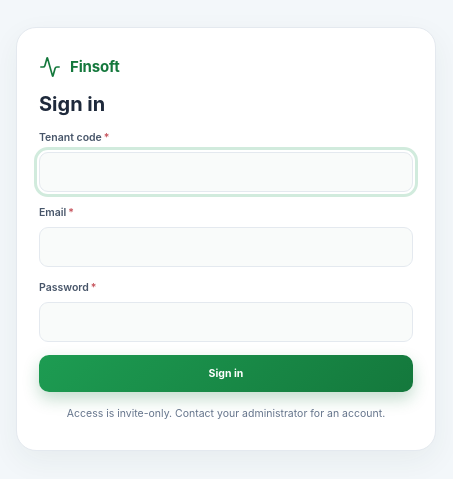
LoginScreen › maps a 400 validation_failed detail to the matching field, not a form banner
Type "1" into the field labelled "Tenant code *" at (226, 172), box x1=39 y1=152 x2=413 y2=192
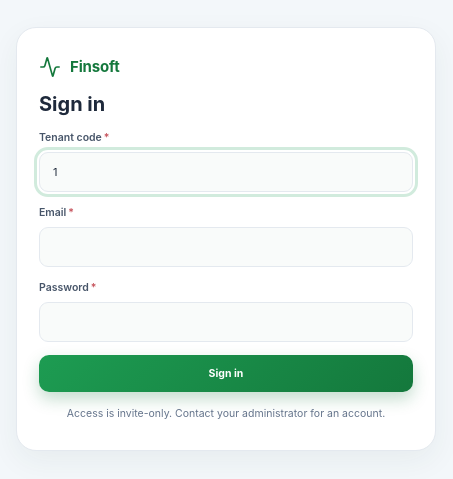
Type "a@b.com" into the field labelled "Email *" at (226, 247), box x1=39 y1=227 x2=413 y2=267
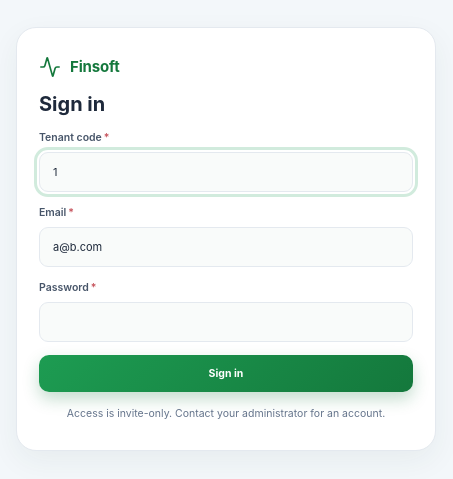
Type "x" into the password field labelled "Password *" at (226, 322), box x1=39 y1=302 x2=413 y2=342
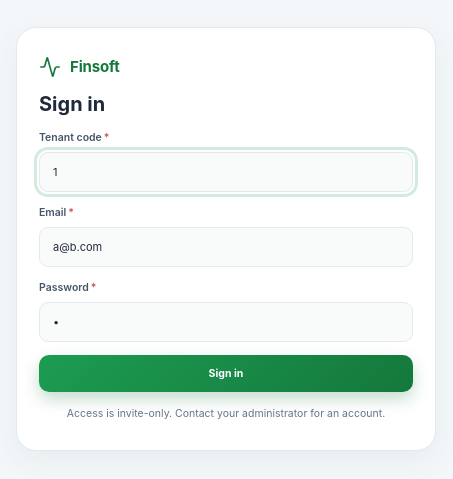
Click the button "Sign in" at (226, 374), box x1=39 y1=356 x2=413 y2=392
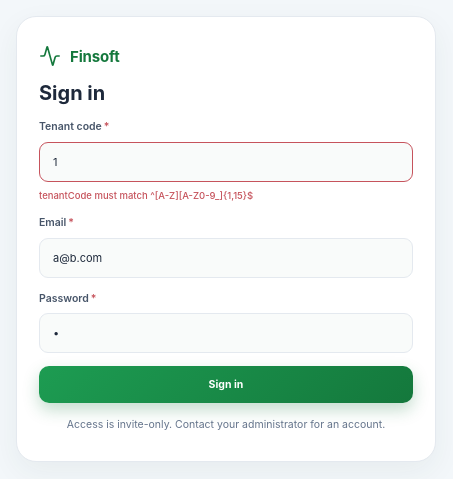
Expected: the button "Sign in" is enabled, x1=39 y1=366 x2=413 y2=403
Now the text "tenantCode must match ^[A-Z][A-Z0-9_]{1,15}$" is shown, box x1=39 y1=190 x2=253 y2=201
